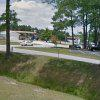Tree: (44, 1, 100, 49)
